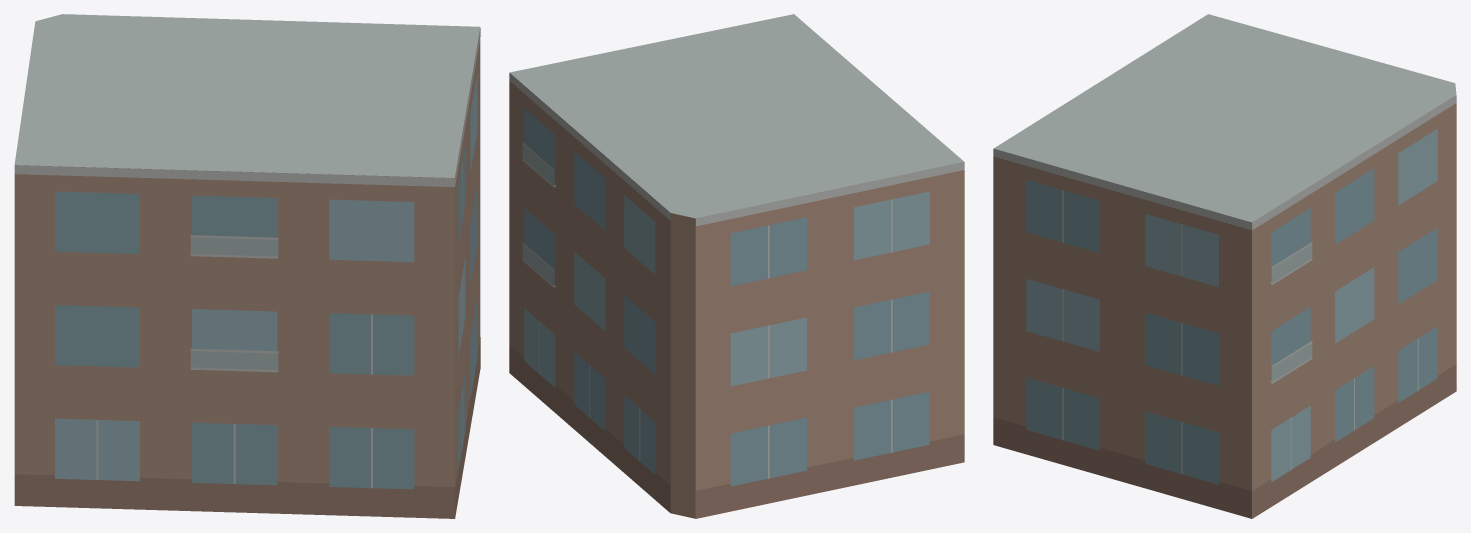
Rendered from survey-upis-32660914.glb.
3 views of the same model, side by side, from view 1: azimuth 30°, elevation 25°; view 2: azimuth 150°, elevation 25°; view 3: azimuth 270°, elevation 25° (orthographic). The views are drawn at different scales.
Parts seen in each view (by area): view 1: survey-upis-32660914.tmp; view 2: survey-upis-32660914.tmp; view 3: survey-upis-32660914.tmp.
Part boxes in pixels (x1,y1,x2,y2): survey-upis-32660914.tmp: [14, 14, 480, 518]; survey-upis-32660914.tmp: [509, 14, 964, 518]; survey-upis-32660914.tmp: [993, 14, 1456, 518].
Bounding box in the file's own units: 13.81 × 9.15 × 12.96.
